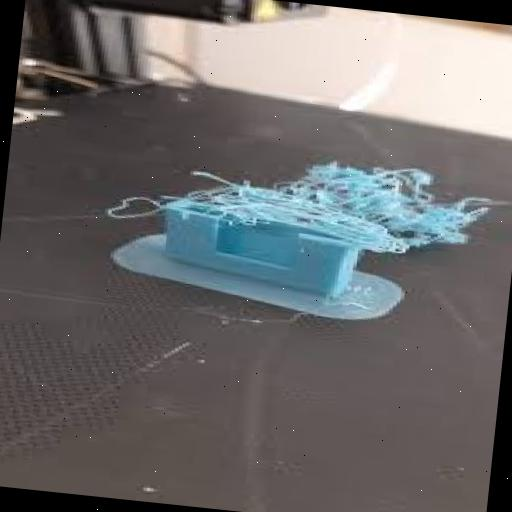spaghetti: (122, 122, 511, 270)
